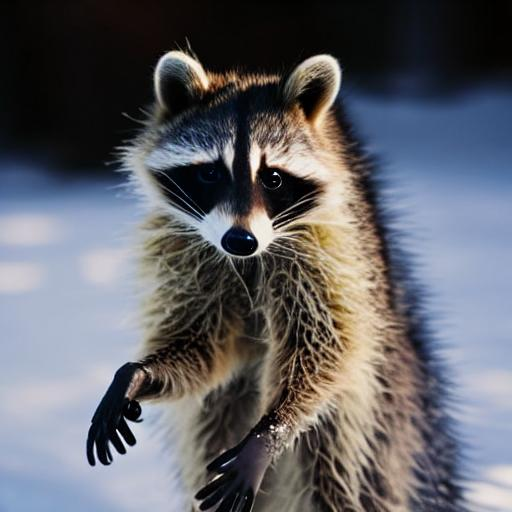raccoon: (133, 42, 478, 512)
